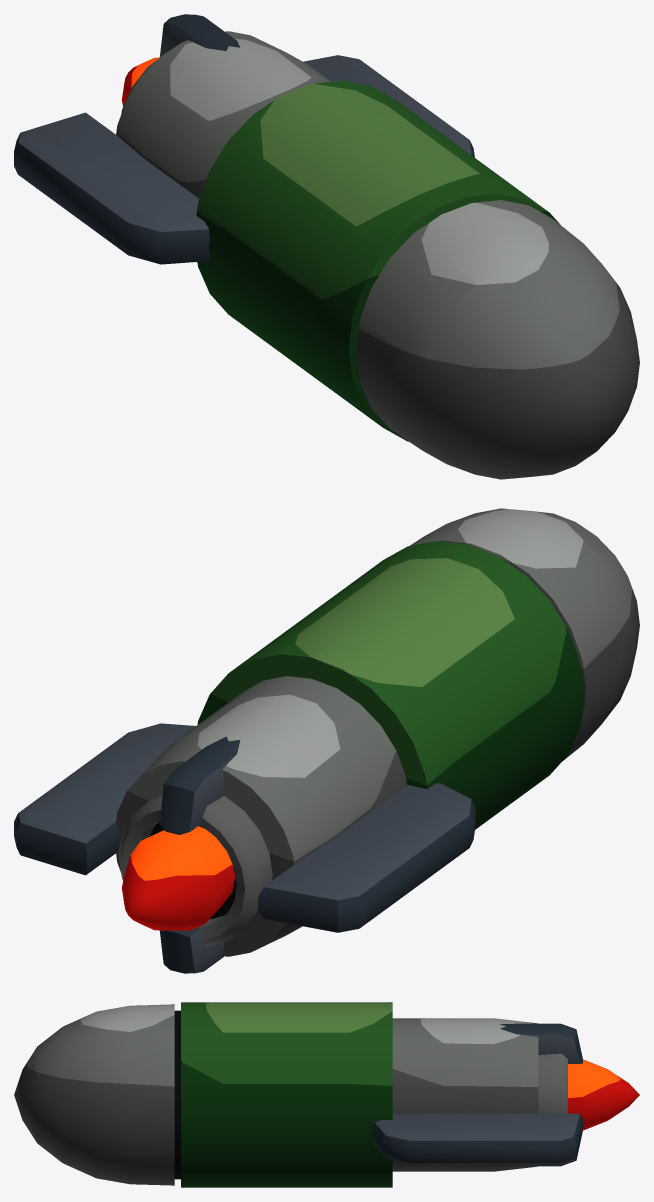
File: slot_rocket_green_114.glb
The picture shows the model from 3 angles, top to bottom: view 1: azimuth 30°, elevation 25°; view 2: azimuth 150°, elevation 25°; view 3: azimuth 270°, elevation 25°; orthographic projection. The views are drawn at different scales.
Visible parts, largest first — view 1: slot_rocket_green_114; view 2: slot_rocket_green_114; view 3: slot_rocket_green_114.
Boxes of the visible parts, bbox=[...] form: slot_rocket_green_114: bbox=[14, 14, 639, 479]; slot_rocket_green_114: bbox=[14, 508, 639, 973]; slot_rocket_green_114: bbox=[14, 1002, 639, 1187].
Size of the model in its own units: 6.5 by 4.4 by 14.8.
